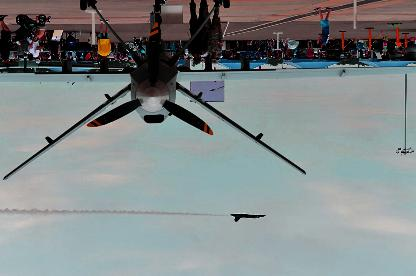F15: (230, 214, 266, 222)
MQ9: (0, 0, 415, 181)
